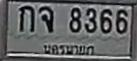3: (84, 7, 96, 32)
6: (115, 8, 127, 33), (99, 8, 111, 33)
8: (69, 7, 80, 32)
A01: (18, 5, 34, 31)
A08: (38, 6, 53, 32)
NYK: (41, 41, 97, 58)
